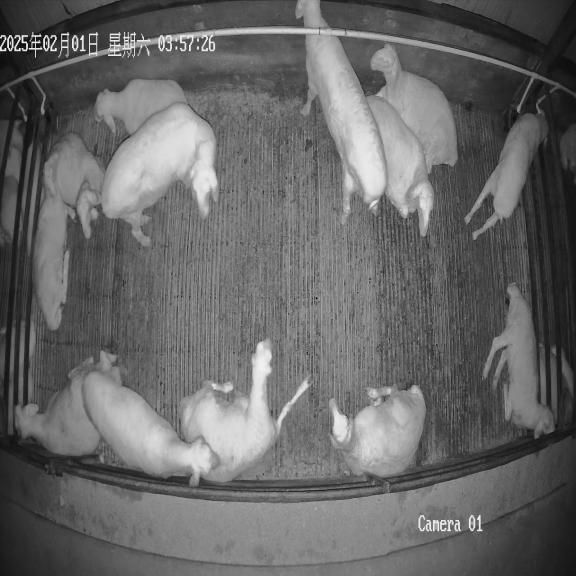lying: (180, 340, 309, 482), (370, 43, 458, 173), (15, 351, 122, 456), (483, 282, 555, 438), (366, 94, 434, 236), (328, 385, 426, 479), (33, 155, 77, 330), (47, 133, 104, 238), (94, 79, 187, 136)
stand: (295, 0, 387, 223), (101, 103, 219, 246), (82, 372, 217, 486), (465, 114, 548, 240)
